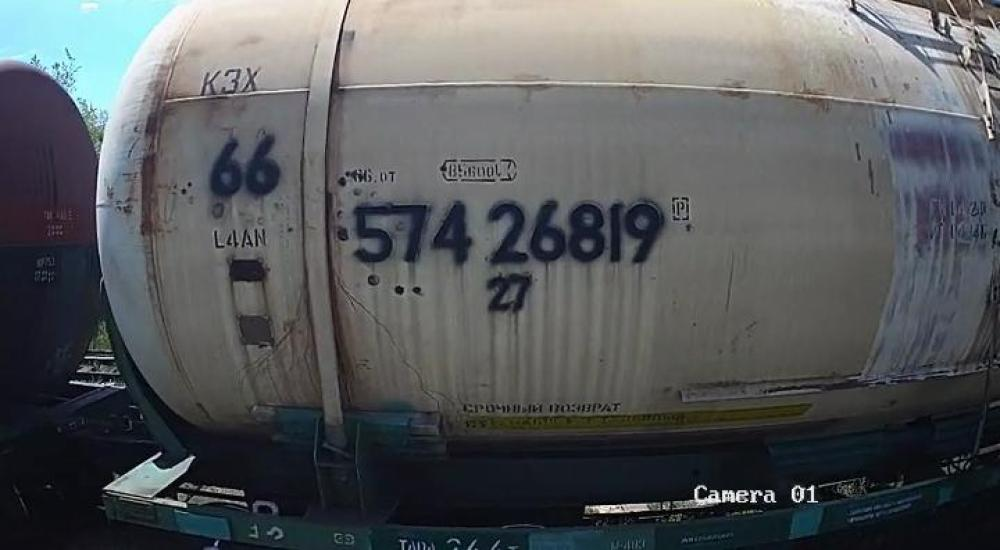Wagon-number: (348, 198, 668, 269)
